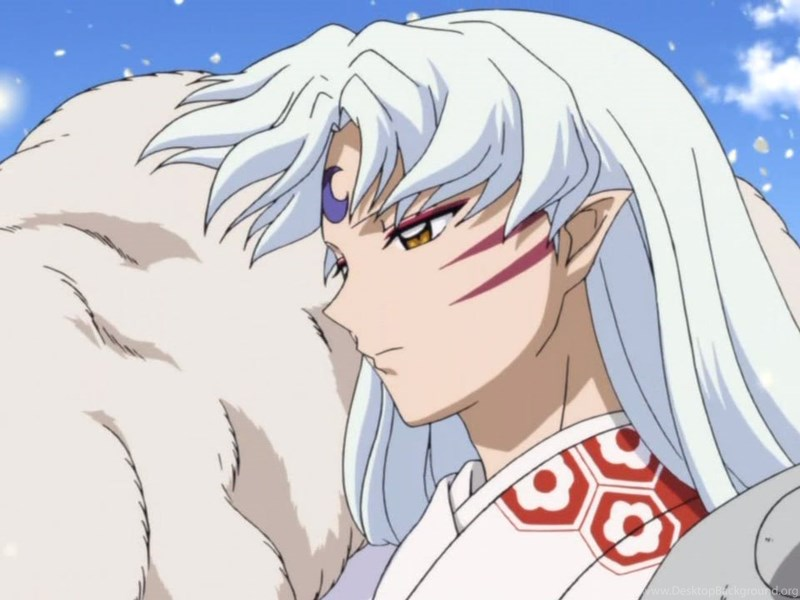sesshomaru: (123, 4, 731, 538)
